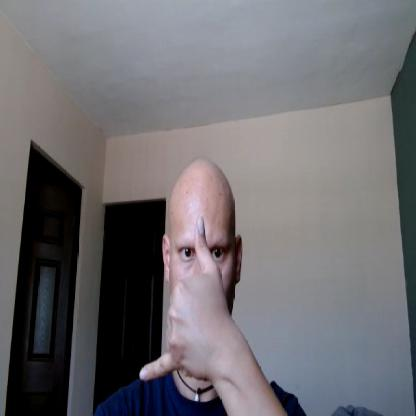Y: (142, 214, 227, 386)
